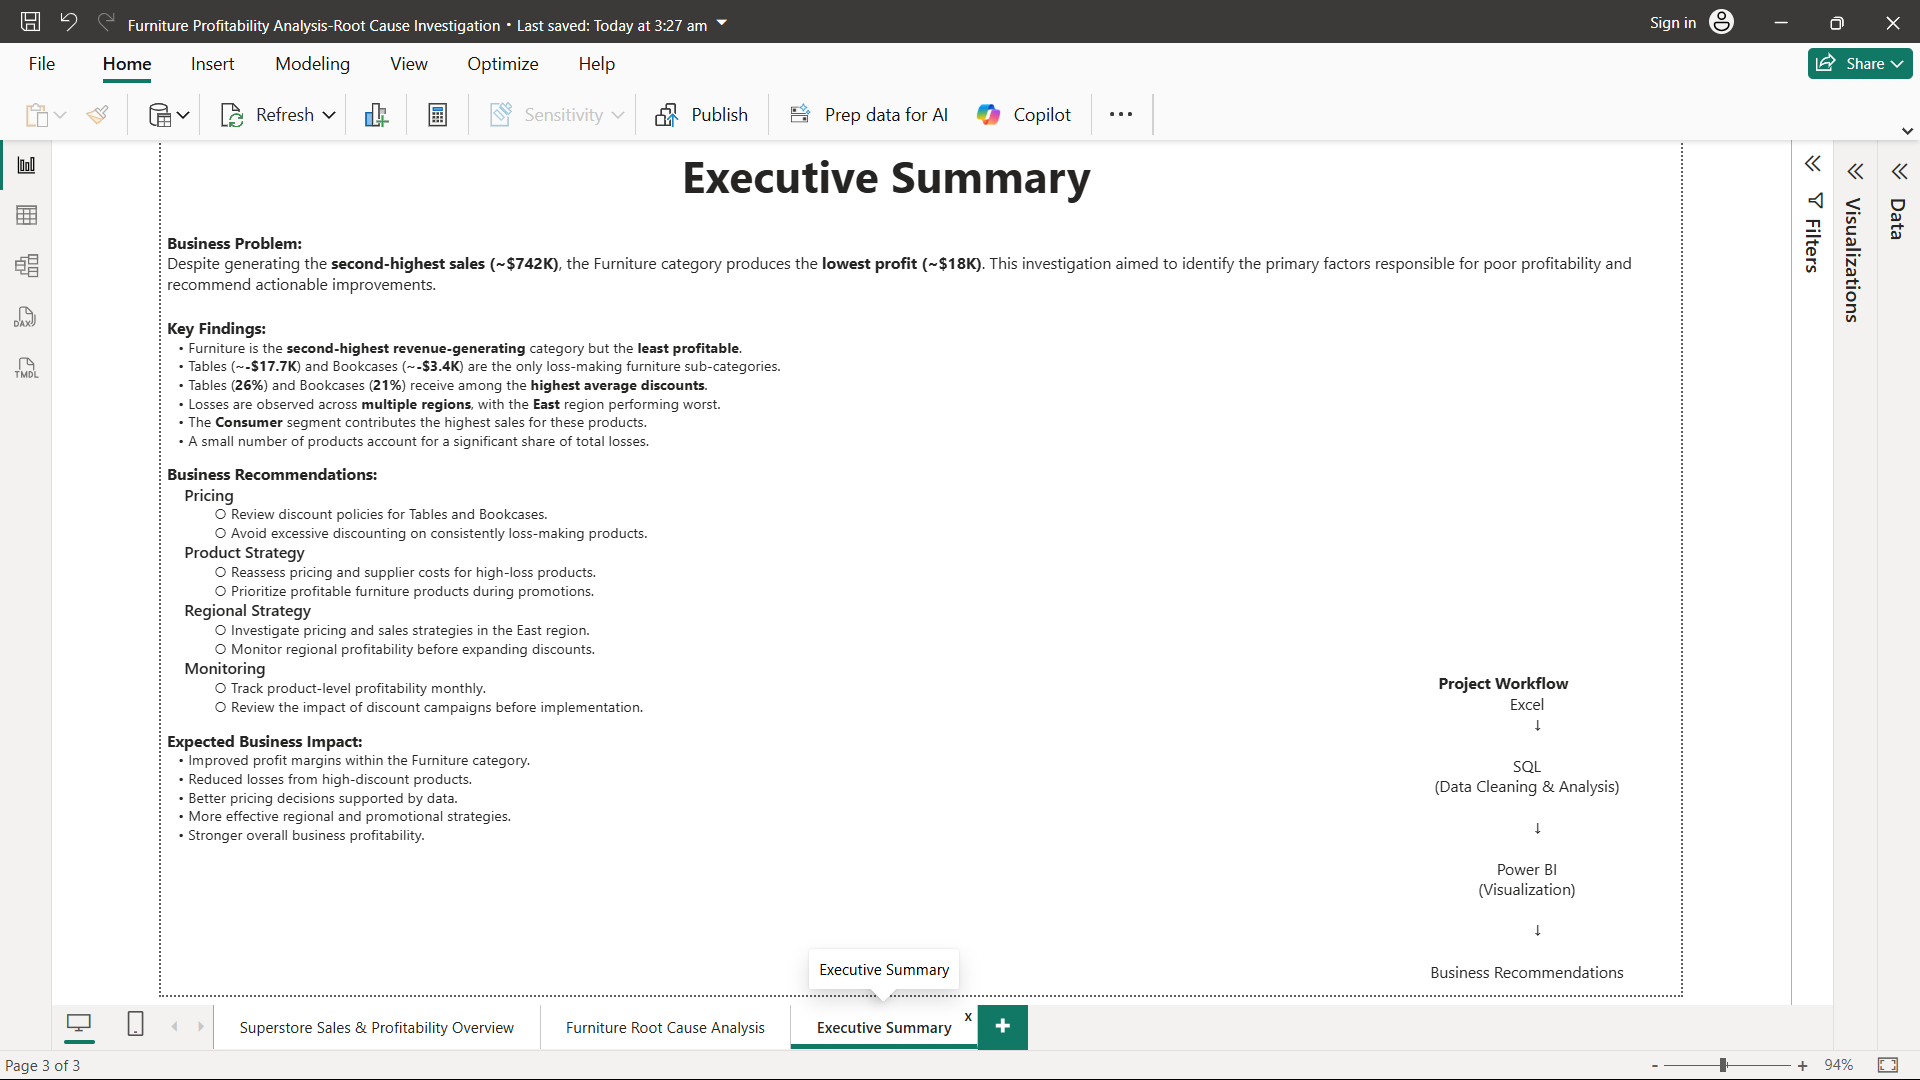

Layout of this report page (visuals, bound fields, positions):
{"tool":"powerbi","page":{"name":"Executive Summary","canvas":[1280,720],"ordinal":2},"visuals":[{"type":"textbox","box":[90.1,0,1042,72.8],"z":0},{"type":"textbox","box":[0,72.8,1279.9,71.6],"z":1},{"type":"textbox","box":[0,144.4,1279.9,122.4],"z":2},{"type":"textbox","box":[0,266.8,462.1,253],"z":3},{"type":"textbox","box":[0,492.1,393.9,110.9],"z":4},{"type":"textbox","box":[980.7,443.6,299.2,276.1],"z":5}]}

Visuals, with their boxes on the page's 1280x720 design canvas (x1, y1, x2, y2). These are canvas units, not pixel positions in the 1920x1080 screenshot, which may show the page scaled, cropped or inside an application window:
textbox: (90,0,1132,73)
textbox: (0,73,1280,144)
textbox: (0,144,1280,267)
textbox: (0,267,462,520)
textbox: (0,492,394,603)
textbox: (981,444,1280,720)
